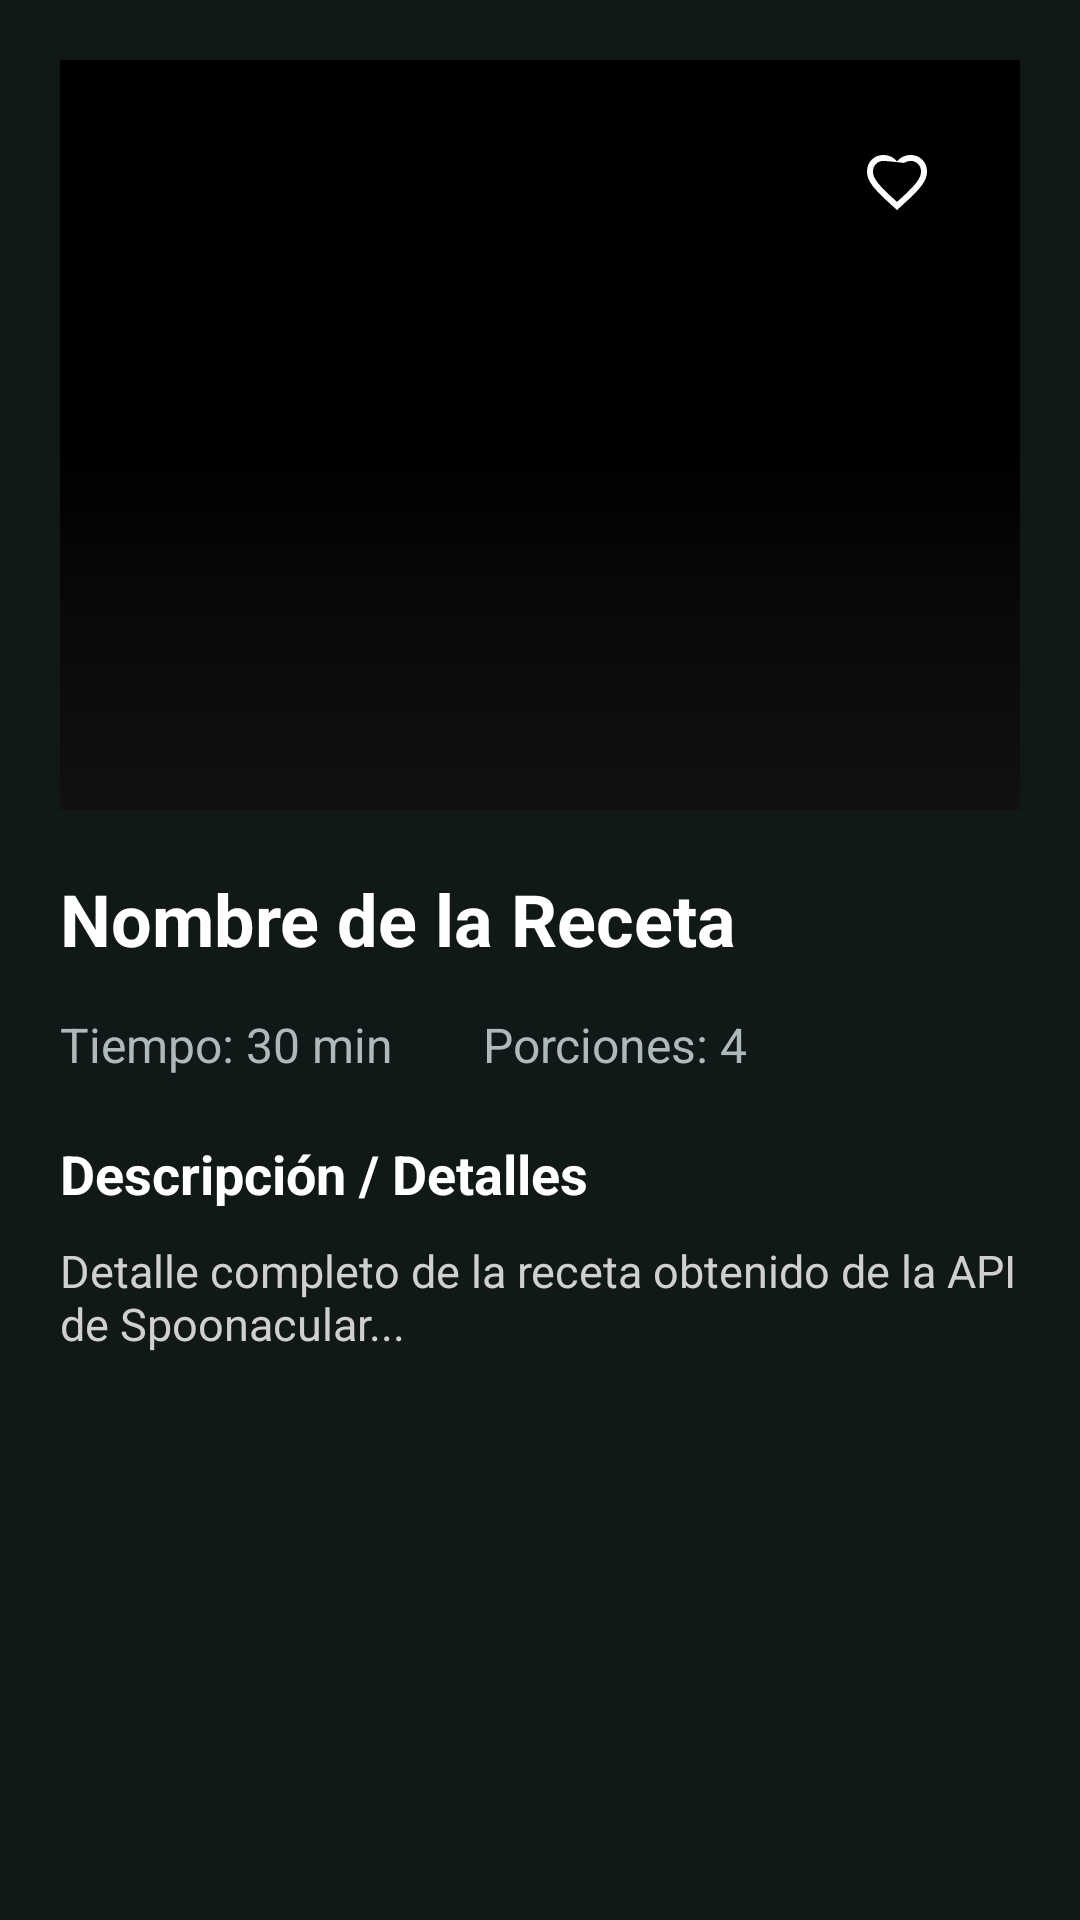

Point at icon controls on the screen. Image size 1080*1920, points as [x,y].
no favorito: [897,182]
